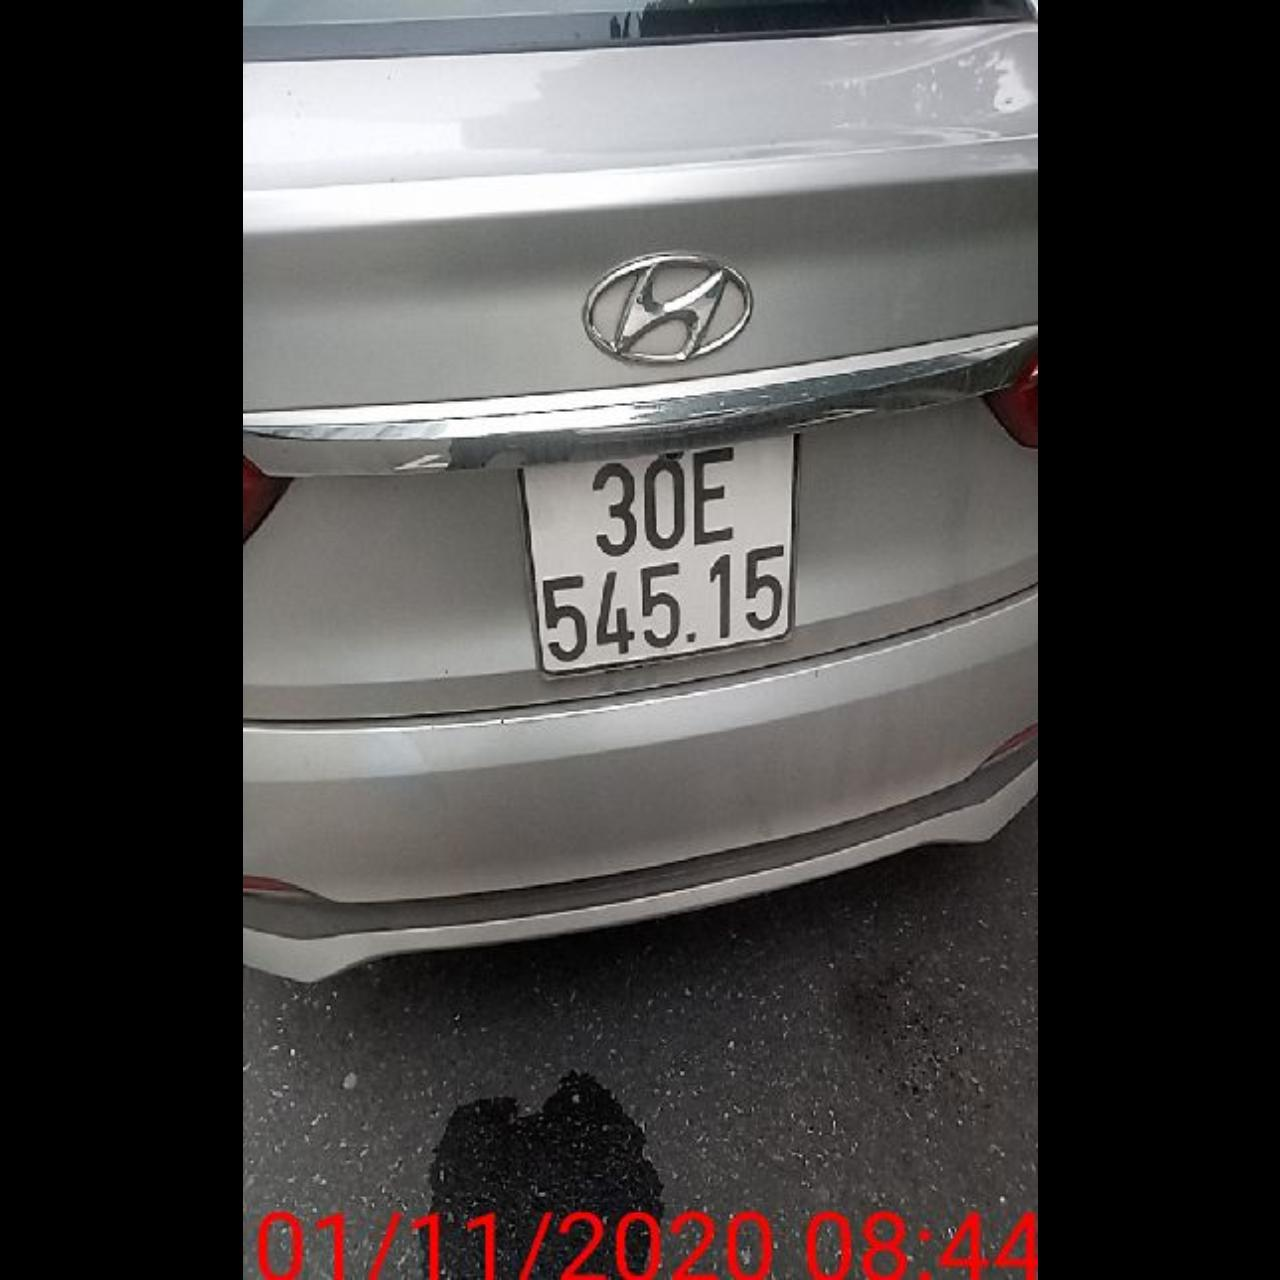bienso: (515, 428, 801, 682)
